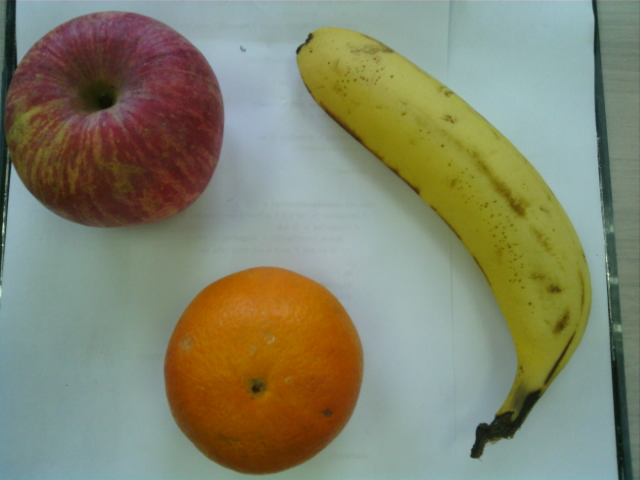normal_apple: (4, 9, 225, 231)
normal_banana: (297, 25, 594, 424)
normal_orange: (161, 265, 364, 477)
